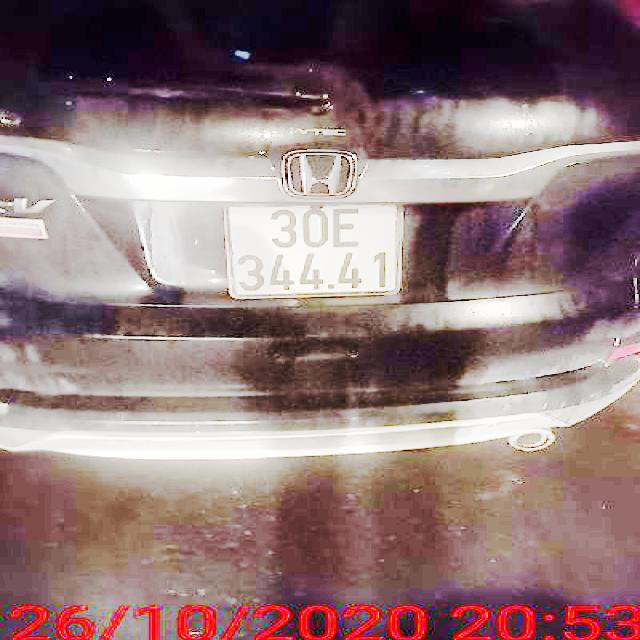license_plate: (227, 203, 404, 300)
